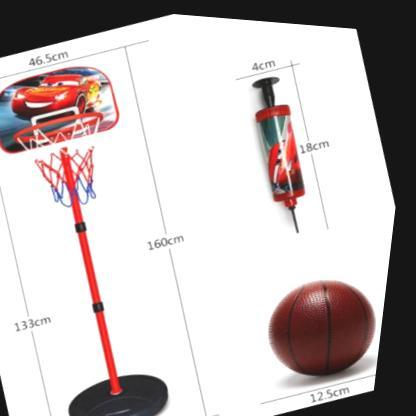basketball: (256, 254, 394, 388)
rim: (9, 101, 133, 222)
